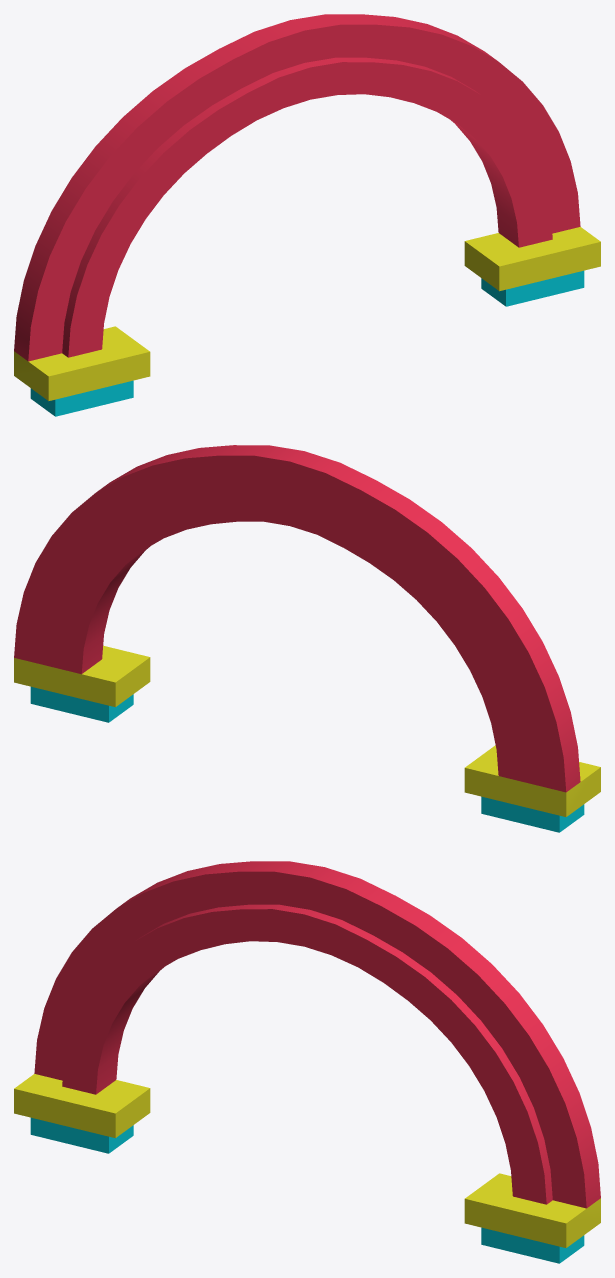
File: Arco_Corr 1.fbx
3 renders of one model, top to bottom at view 1: azimuth 30°, elevation 25°; view 2: azimuth 150°, elevation 25°; view 3: azimuth 330°, elevation 25°, orthographic.
Visible parts, largest first — view 1: ARCO_ARRIBA_C; view 2: ARCO_ARRIBA_C; view 3: ARCO_ARRIBA_C.
Part boxes in pixels (x1,y1,x2,y2): ARCO_ARRIBA_C: (14, 14, 600, 416); ARCO_ARRIBA_C: (14, 445, 600, 832); ARCO_ARRIBA_C: (14, 861, 600, 1263).
Bounding box in the file's own units: 701 × 376 × 76.34.
